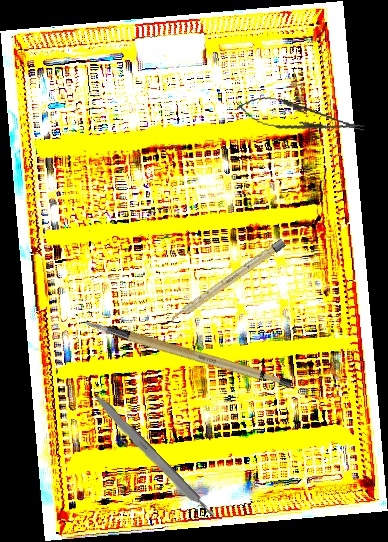Needle Holder: (234, 91, 367, 144)
Scalpel Handle: (83, 287, 294, 416), (88, 390, 217, 522), (168, 238, 287, 325)
